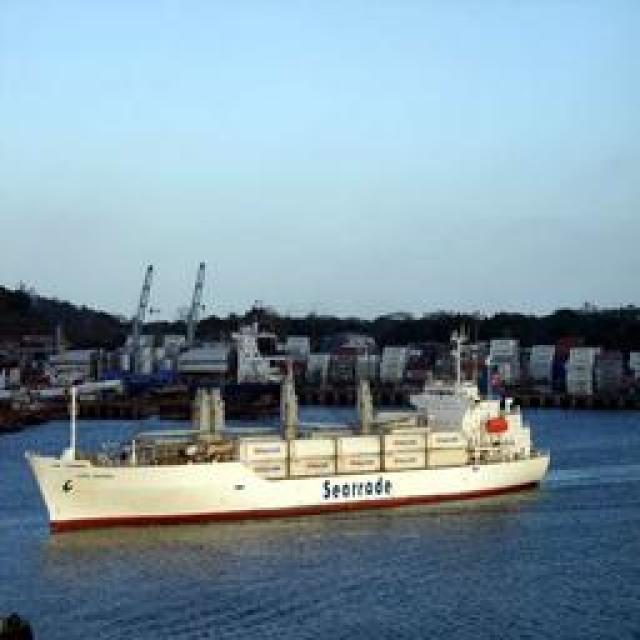CIV_Ship: (36, 398, 546, 530)
